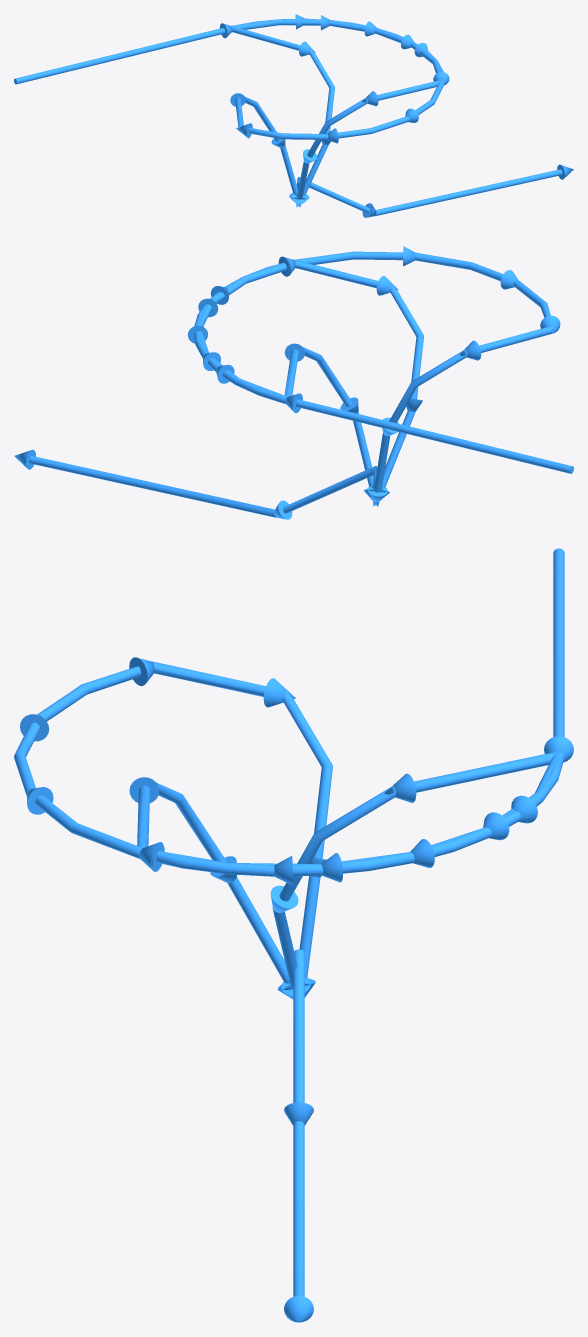
Rendered from hydraulic_turbine_flow.glb.
3 renders of one model, top to bottom at view 1: azimuth 30°, elevation 25°; view 2: azimuth 150°, elevation 25°; view 3: azimuth 270°, elevation 25°, orthographic. The views are drawn at different scales.
Visible parts, largest first — view 1: water_2, water_0, water_1; view 2: water_2, water_0, water_1; view 3: water_2, water_0, water_1.
Boxes of the visible parts, x1=… form: water_2: x1=230, y1=15, x2=562, y2=215; water_0: x1=14, y1=23, x2=573, y2=217; water_1: x1=16, y1=14, x2=561, y2=215; water_2: x1=29, y1=246, x2=570, y2=517; water_0: x1=14, y1=343, x2=573, y2=519; water_1: x1=29, y1=256, x2=570, y2=516; water_2: x1=14, y1=549, x2=563, y2=1296; water_0: x1=270, y1=548, x2=573, y2=1322; water_1: x1=129, y1=549, x2=564, y2=1295.
Size of the model in its own units: 2.27 by 0.7616 by 1.16.
